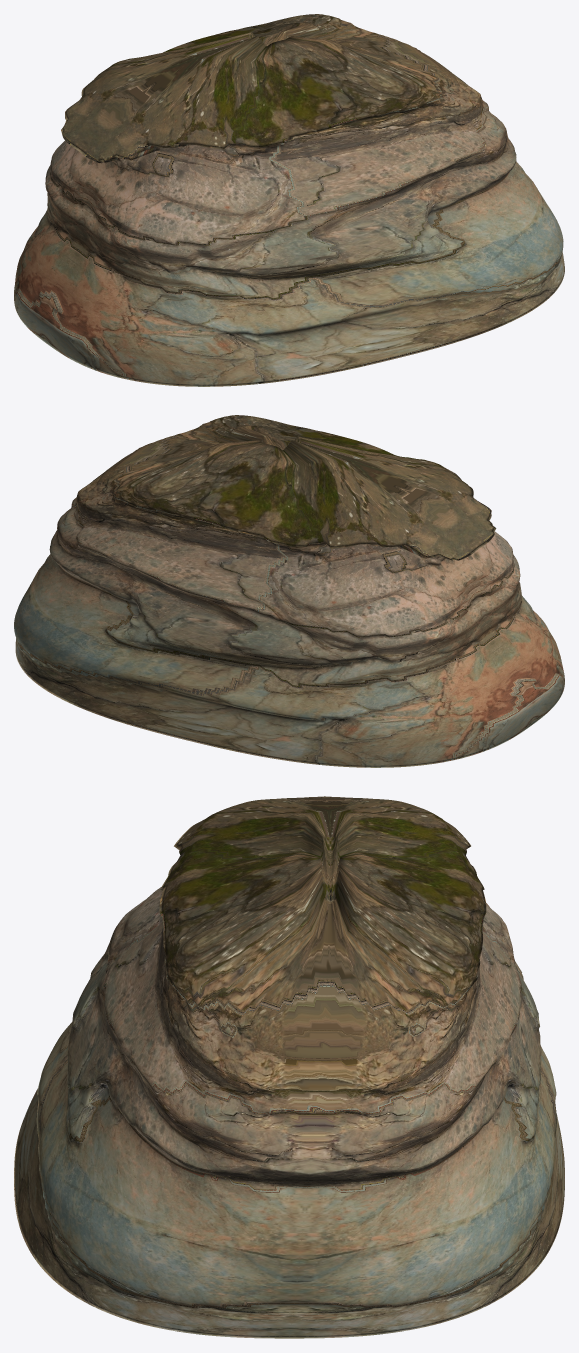
The model's file is corealm_sunder_ledge.glb.
3 views of the same model, one above another, from view 1: azimuth 30°, elevation 25°; view 2: azimuth 150°, elevation 25°; view 3: azimuth 270°, elevation 25° (orthographic). The views are drawn at different scales.
Visible parts, largest first — view 1: corealm_sunder_ledge; view 2: corealm_sunder_ledge; view 3: corealm_sunder_ledge.
Part boxes in pixels (x1,y1,x2,y2): corealm_sunder_ledge: (14,14,564,386); corealm_sunder_ledge: (14,415,564,767); corealm_sunder_ledge: (14,796,564,1338).
Size of the model in its own units: 9.32 by 4.45 by 6.73.
1 material, 1 textured.
